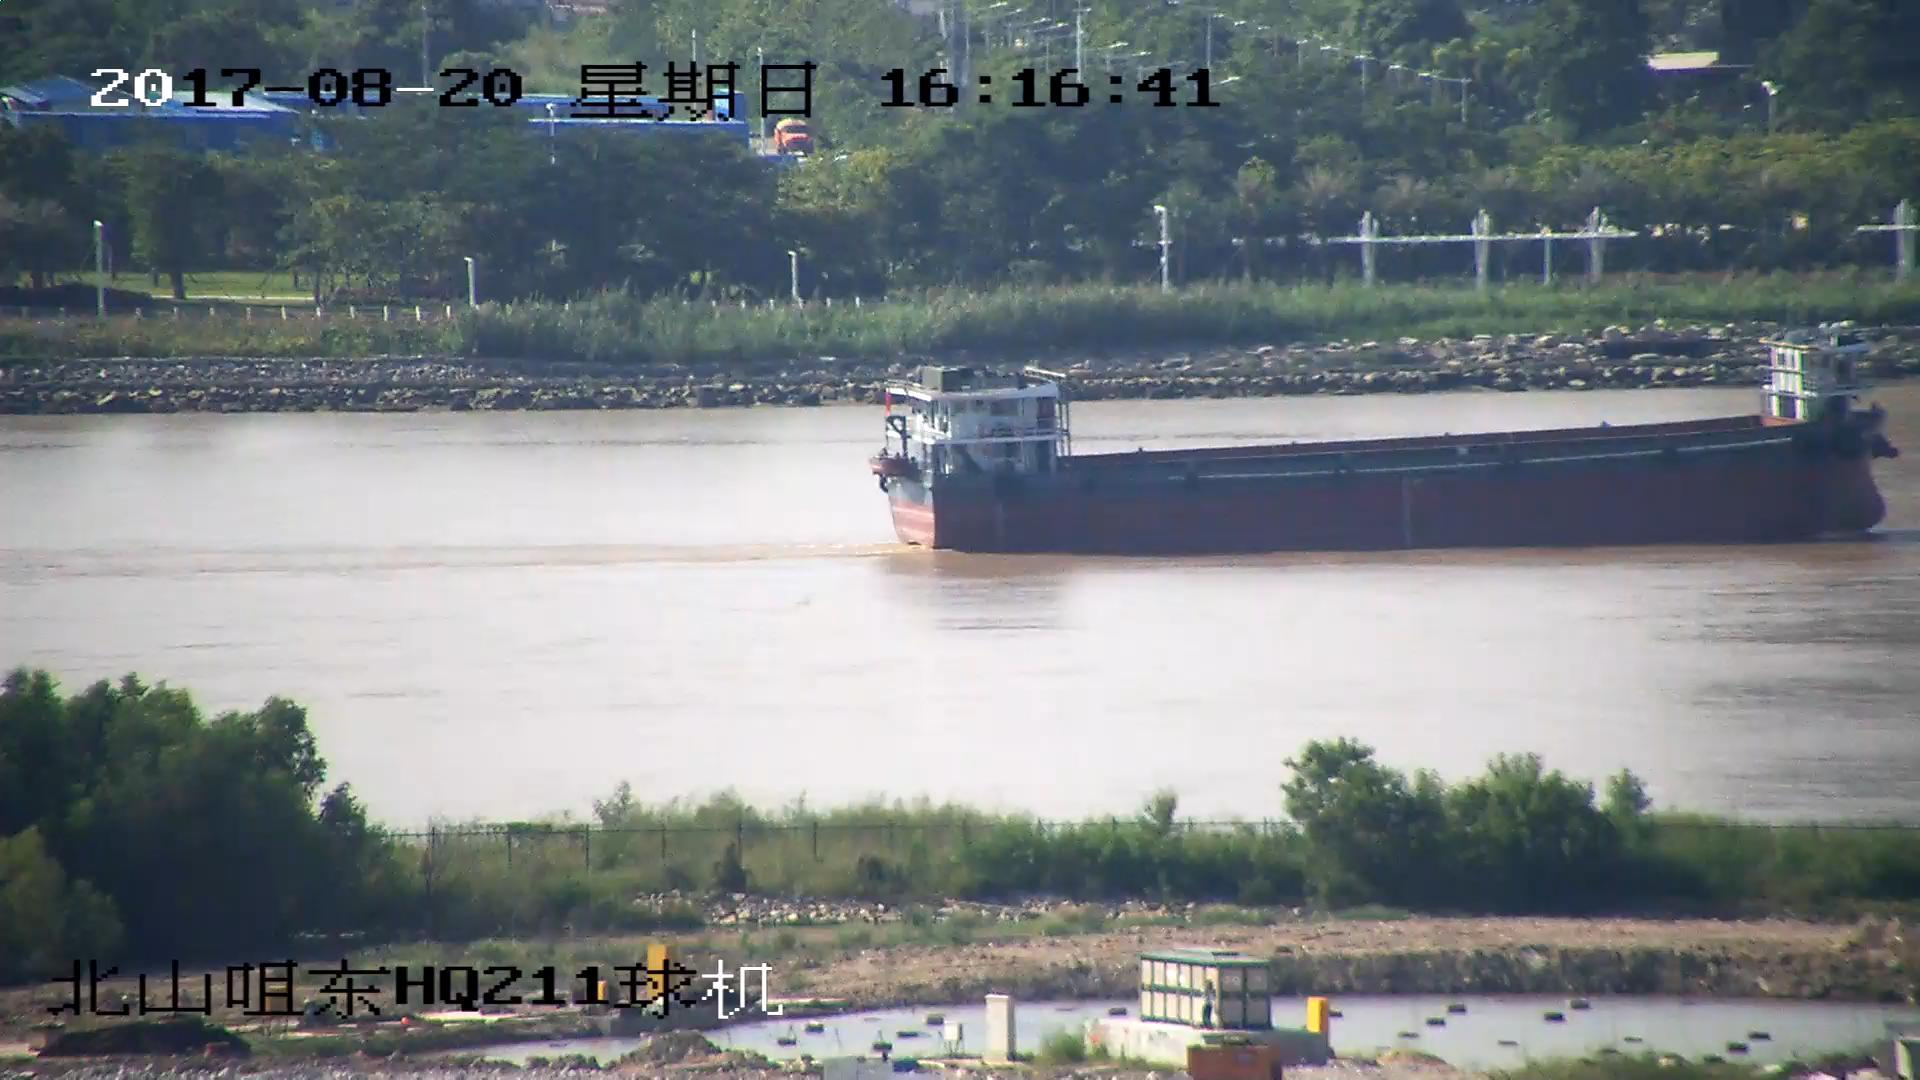Ship: (882, 347, 1894, 559)
